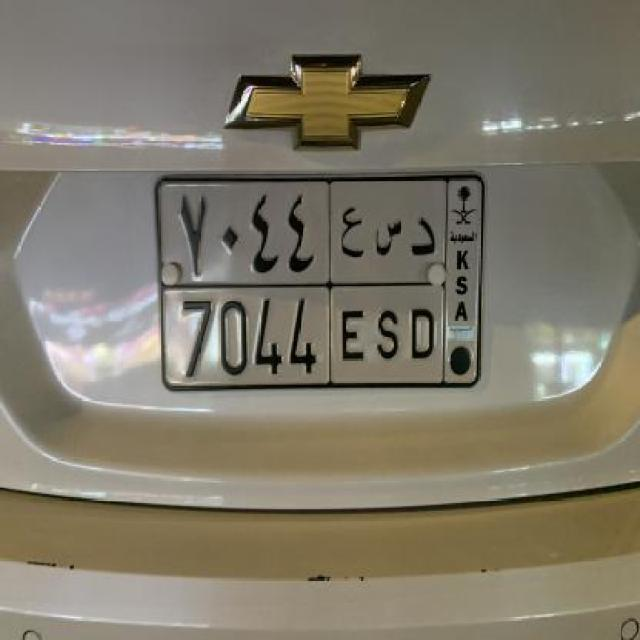license_plate: (150, 169, 488, 402)
